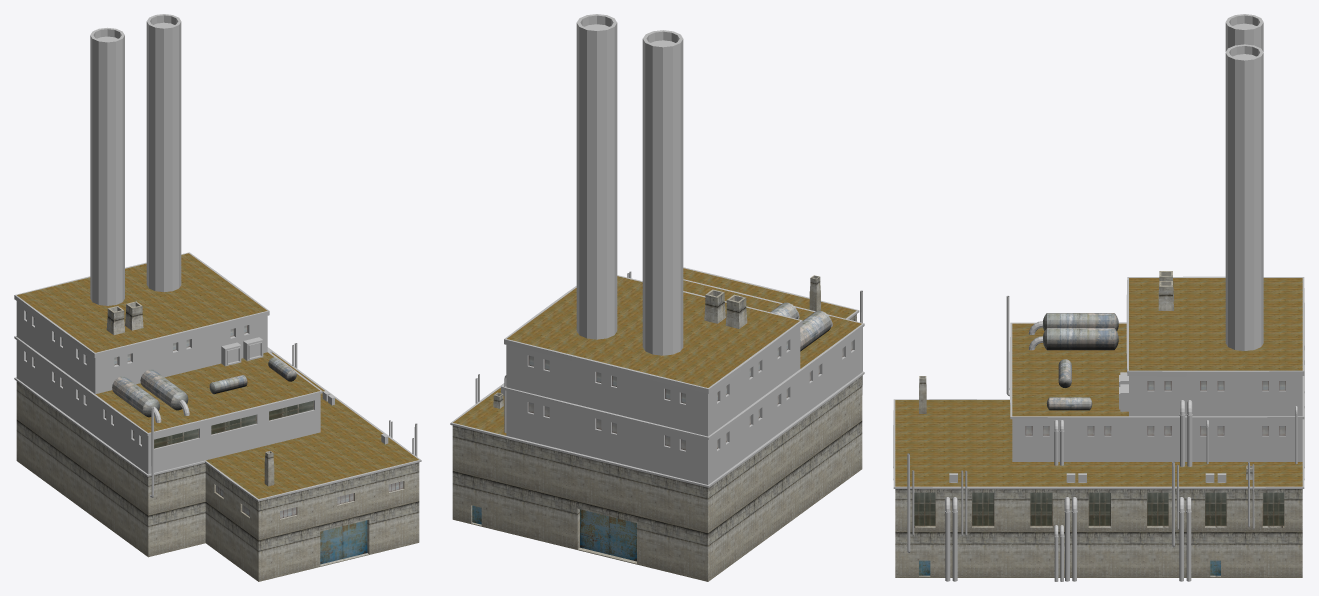
File: Building_7_LOD01.fbx
3 views of the same model, side by side, from view 1: azimuth 30°, elevation 25°; view 2: azimuth 150°, elevation 25°; view 3: azimuth 270°, elevation 25° (orthographic). The views are drawn at different scales.
Parts seen in each view (by area): view 1: Building_7_LOD01; view 2: Building_7_LOD01; view 3: Building_7_LOD01.
Part boxes in pixels (left/top/right/bottom): Building_7_LOD01: left=14, top=14, right=421, bottom=581; Building_7_LOD01: left=450, top=14, right=864, bottom=581; Building_7_LOD01: left=893, top=14, right=1304, bottom=581.
Size of the model in its own units: 21.91 by 39.16 by 30.88.
